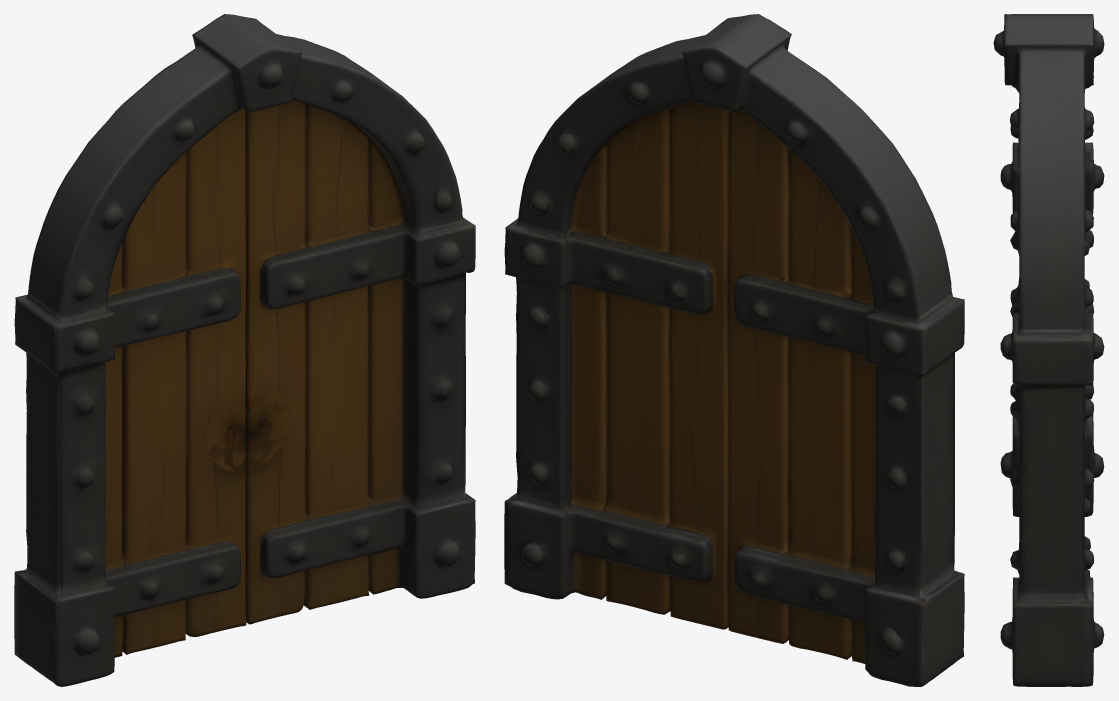
The model's file is Portão.glb.
3 views of the same model, side by side, from view 1: azimuth 30°, elevation 25°; view 2: azimuth 150°, elevation 25°; view 3: azimuth 270°, elevation 25° (orthographic). The views are drawn at different scales.
Visible parts, largest first — view 1: model; view 2: model; view 3: model.
Boxes of the visible parts, left/top/right/bottom form: model: left=14, top=14, right=475, bottom=686; model: left=504, top=14, right=964, bottom=686; model: left=993, top=14, right=1104, bottom=686.
Size of the model in its own units: 1.41 by 1.9 by 0.3328.
Materials: 1 (1 with a texture image).
